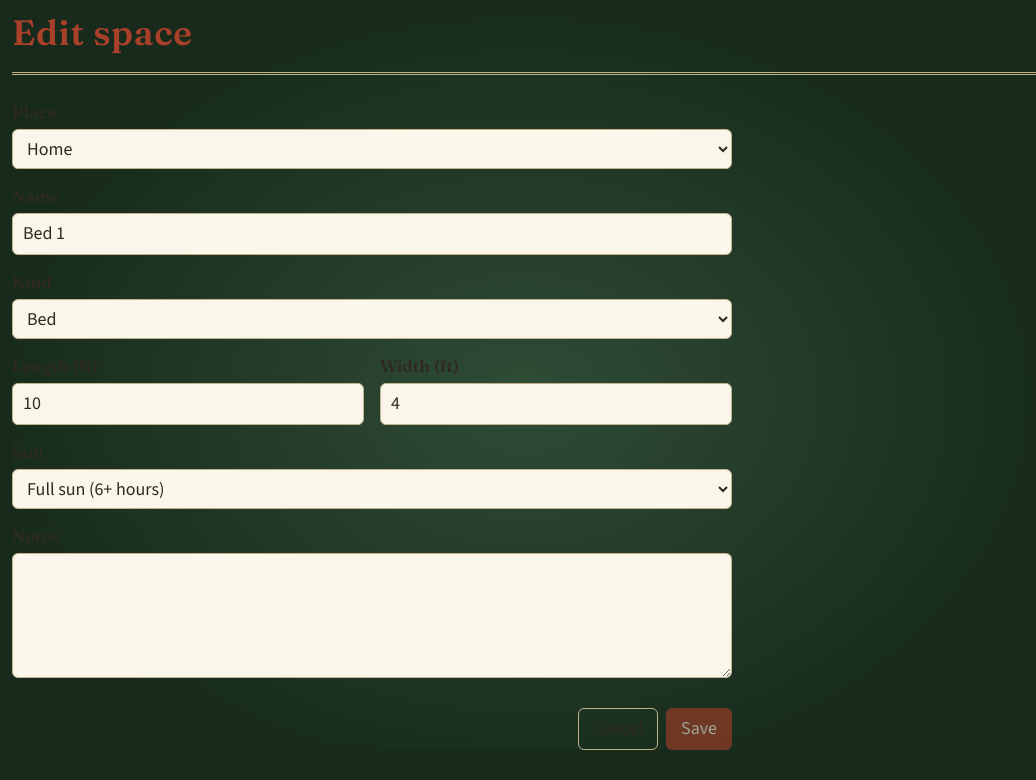
Test: space form › a size that is not a number is caught before saving
Replace the text in the field labelled "Length (ft)" with "abc". click: {"x": 188, "y": 404}
box: [12,383,364,425]
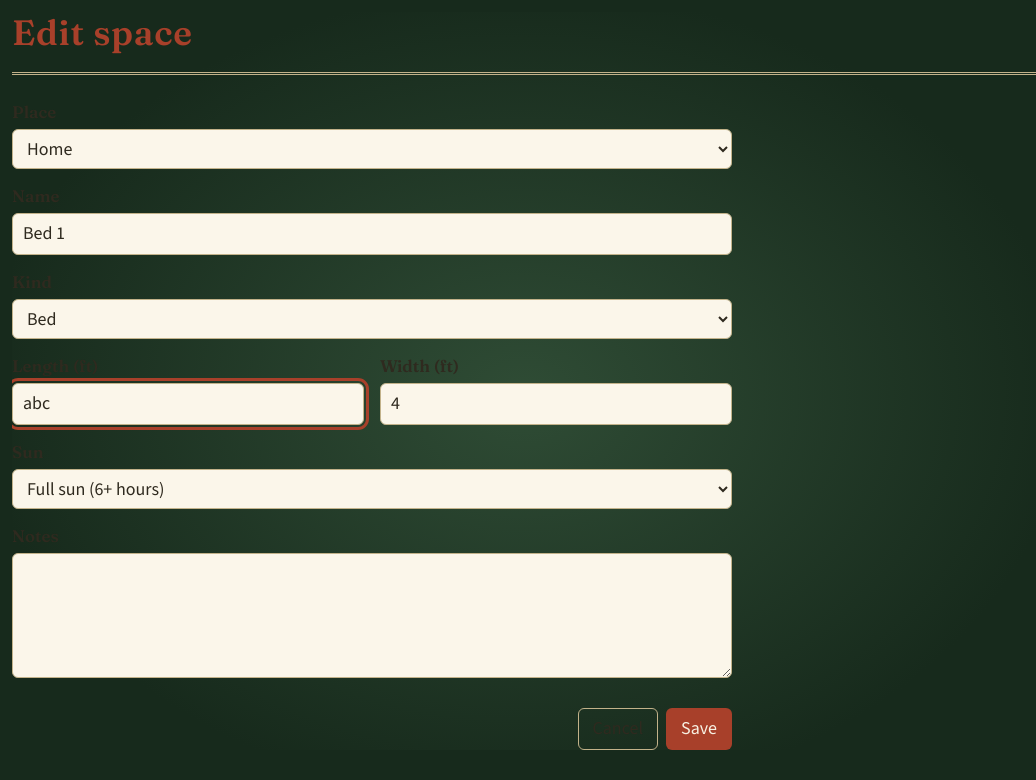
Click the button "Save". click: {"x": 699, "y": 729}
box: [666,708,732,750]
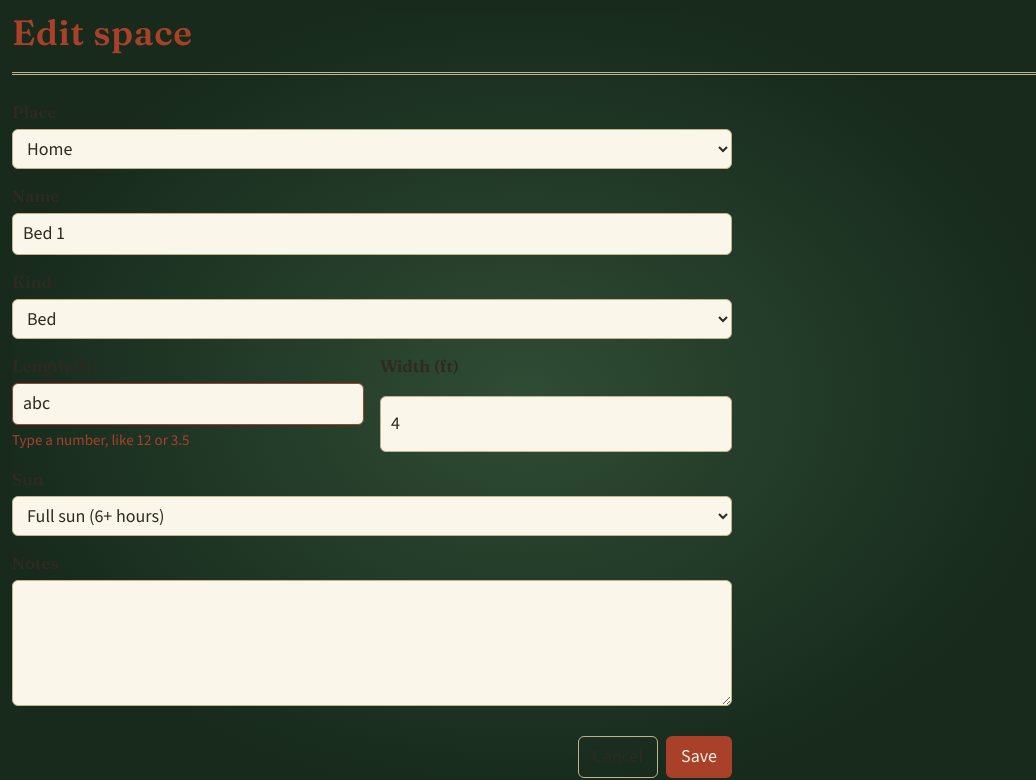
Result: the text "Type a number, like 12 or 3.5" is shown at [12,430,190,450]
